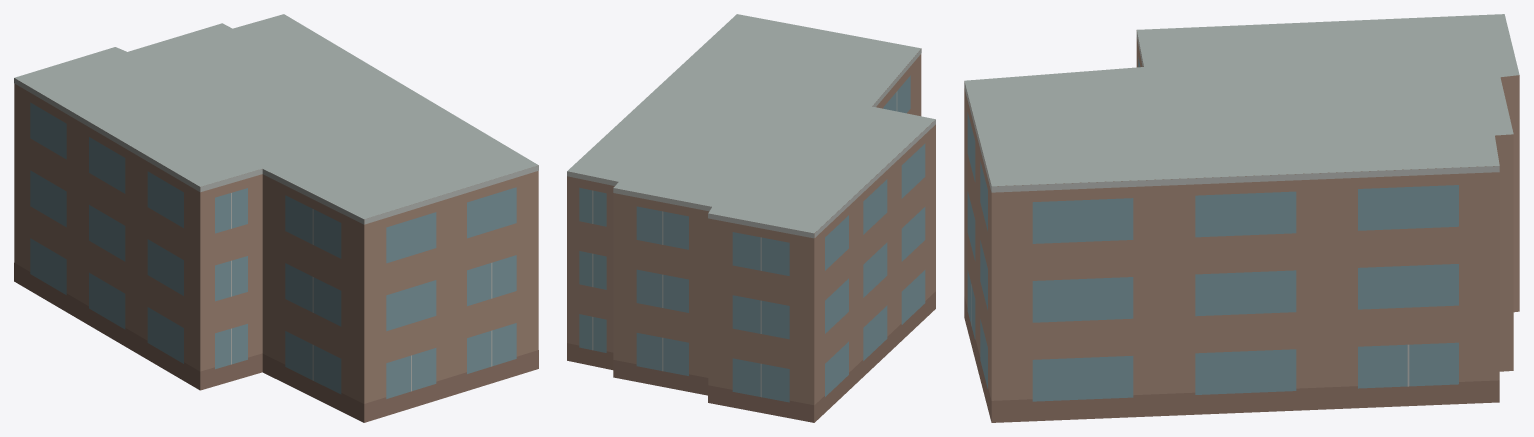
The model's file is survey-upis-32676073.glb.
3 renders of one model, left to right at view 1: azimuth 30°, elevation 25°; view 2: azimuth 150°, elevation 25°; view 3: azimuth 270°, elevation 25°, orthographic. The views are drawn at different scales.
Visible parts, largest first — view 1: survey-upis-32676073.tmp; view 2: survey-upis-32676073.tmp; view 3: survey-upis-32676073.tmp.
Boxes of the visible parts, x1=… form: survey-upis-32676073.tmp: x1=14, y1=14, x2=538, y2=422; survey-upis-32676073.tmp: x1=567, y1=14, x2=935, y2=422; survey-upis-32676073.tmp: x1=964, y1=14, x2=1519, y2=422.
Bounding box in the file's own units: 14.31 × 9.15 × 19.48.
